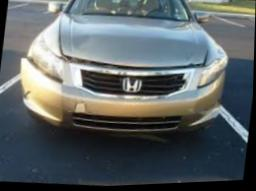Bonnet: (55, 5, 212, 73)
Bumper: (12, 51, 234, 144)
